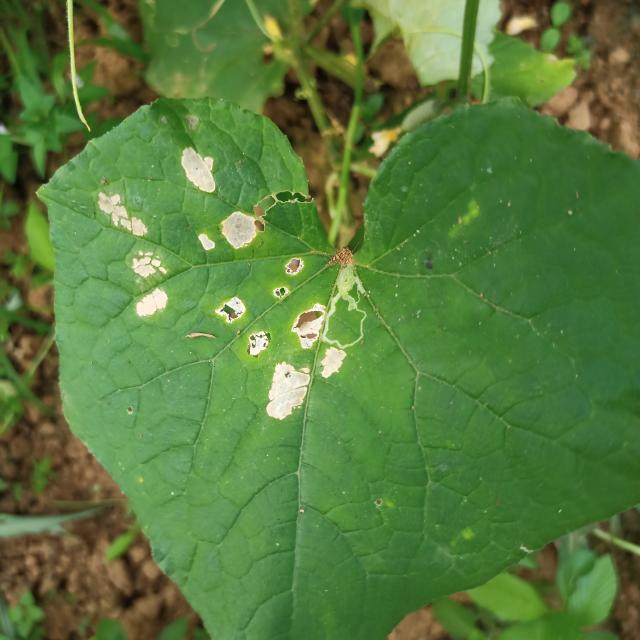disease_cucumber: (182, 148, 346, 420), (96, 192, 168, 330)
